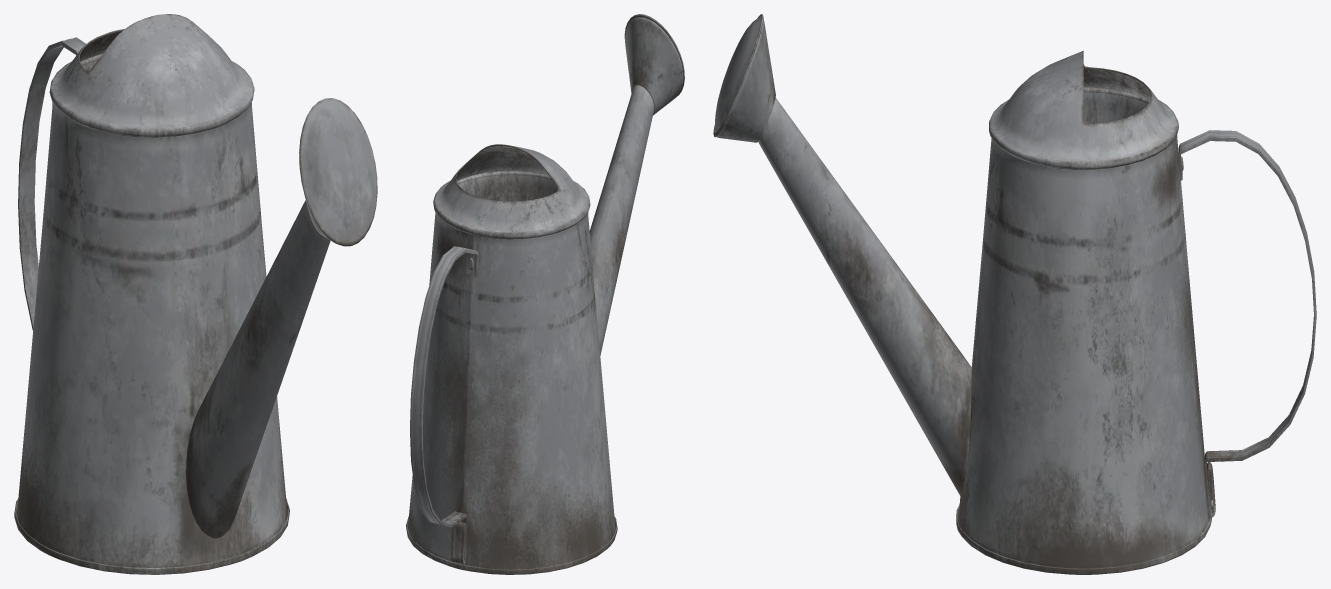
The model's file is watering_can.glb.
The picture shows the model from 3 angles, left to right: view 1: azimuth 30°, elevation 25°; view 2: azimuth 150°, elevation 25°; view 3: azimuth 270°, elevation 25°; orthographic projection. The views are drawn at different scales.
Visible parts, largest first — view 1: watering_can_metal_01.001; view 2: watering_can_metal_01.001; view 3: watering_can_metal_01.001.
Part boxes in pixels (x1,y1,x2,y2): watering_can_metal_01.001: [14, 14, 377, 574]; watering_can_metal_01.001: [406, 14, 684, 574]; watering_can_metal_01.001: [713, 14, 1316, 574].
Size of the model in its own units: 4.42 by 9.69 by 10.48.
Materials: 1 (1 with a texture image).
